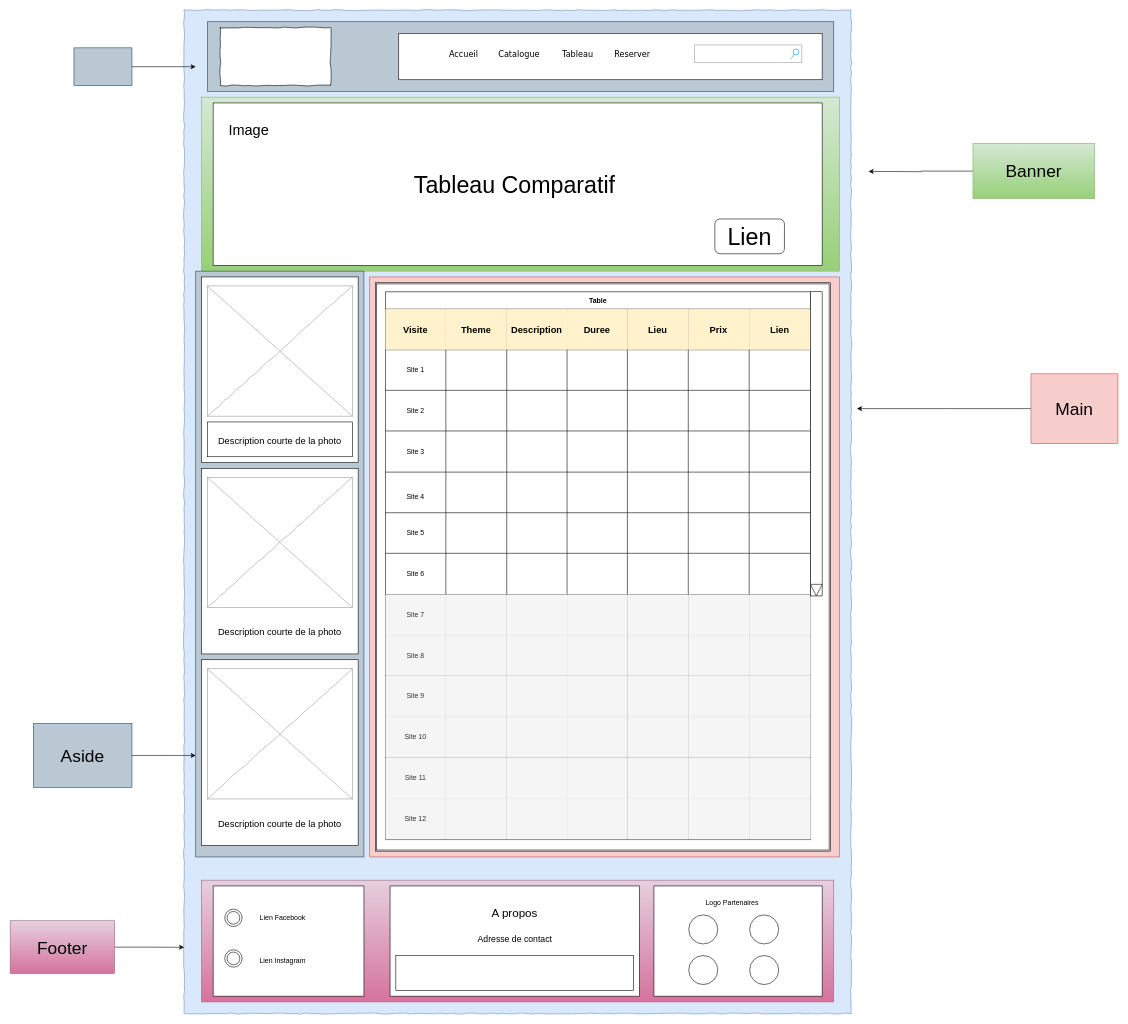
Image size: 1128x1024. Some labels were removed from this diagram. Here are the shapes that lost their labels. From the top down, the centre of each, then its label:
(x=102, y=66): Nav
(x=275, y=56): LOGO
(x=748, y=53): Search
(x=514, y=972): Credits pour le site web
